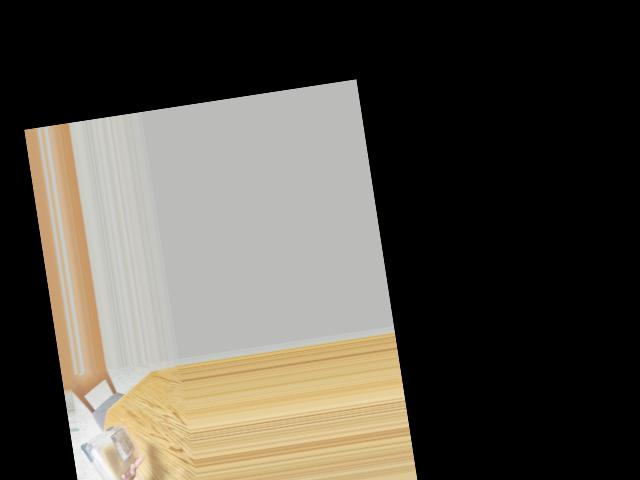cheese: (86, 423, 136, 480)
